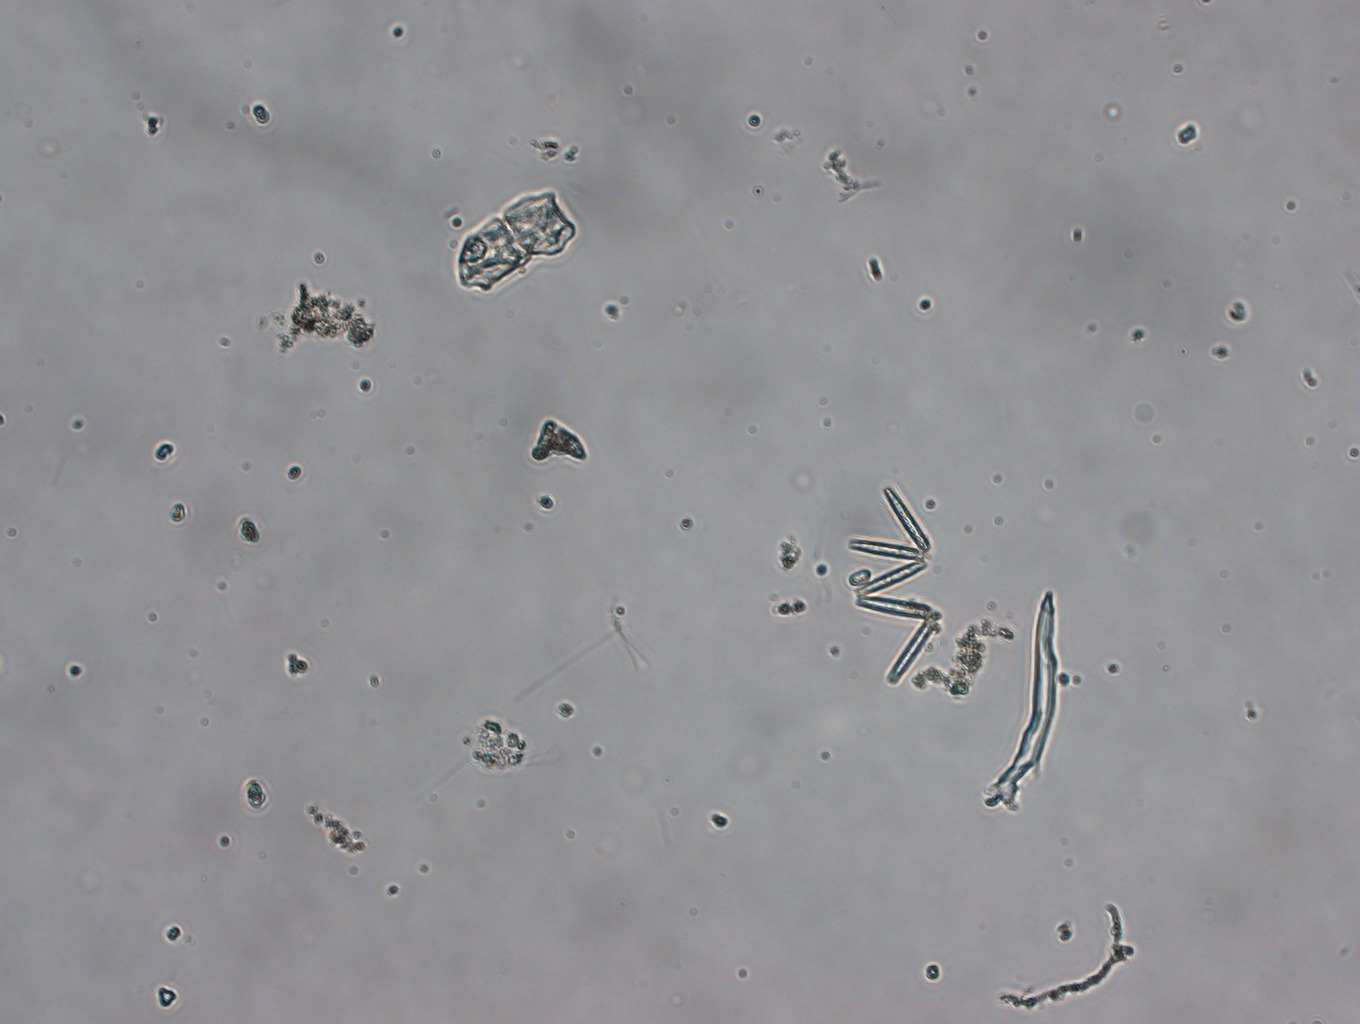thalassionema nitzschioides: (845, 477, 953, 695)
